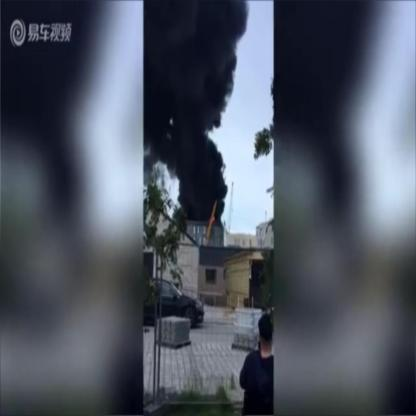smoke: (176, 5, 246, 143), (145, 6, 174, 182), (174, 144, 229, 224)
